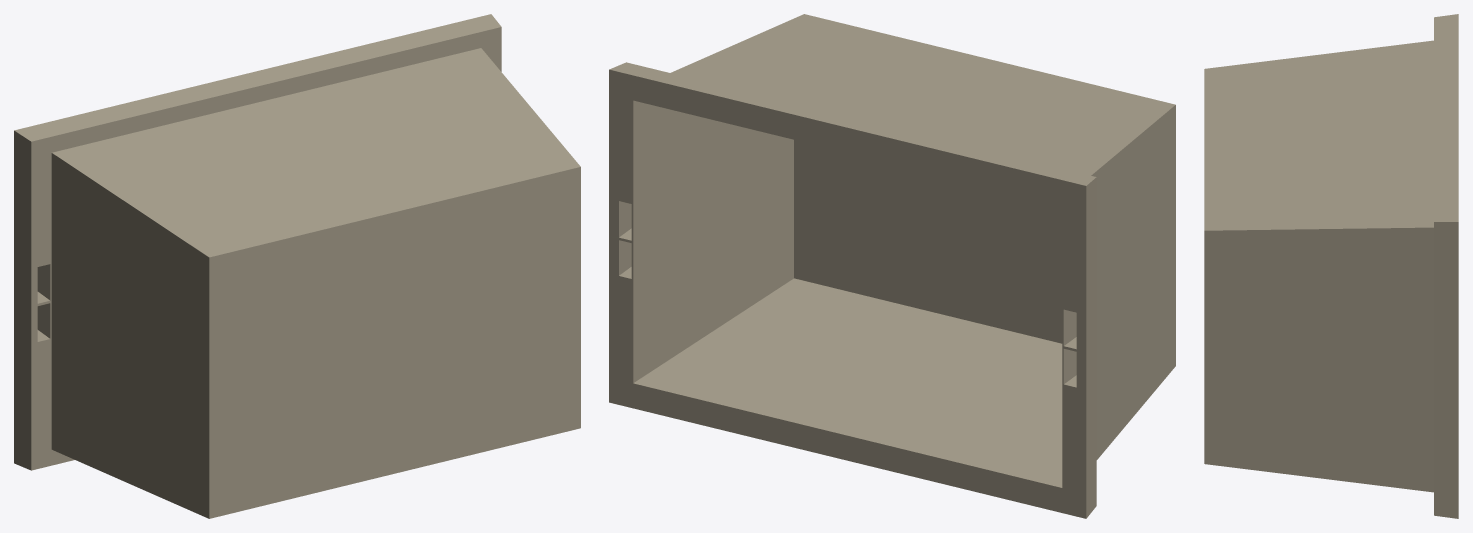
Rendered from boxxl.dae.
3 views of the same model, side by side, from view 1: azimuth 30°, elevation 25°; view 2: azimuth 150°, elevation 25°; view 3: azimuth 270°, elevation 25° (orthographic). The views are drawn at different scales.
Parts seen in each view (by area): view 1: 美团胶框; view 2: 美团胶框; view 3: 美团胶框.
Part boxes in pixels (x1,y1,x2,y2): 美团胶框: [14, 14, 580, 518]; 美团胶框: [609, 14, 1175, 518]; 美团胶框: [1204, 14, 1458, 518].
Size of the model in its own units: 600 by 310 by 400.
